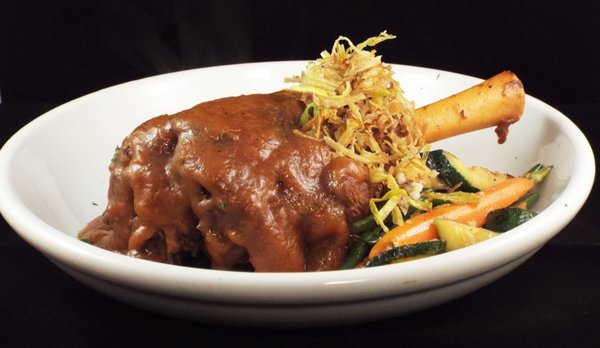sushi: (11, 35, 591, 332)
